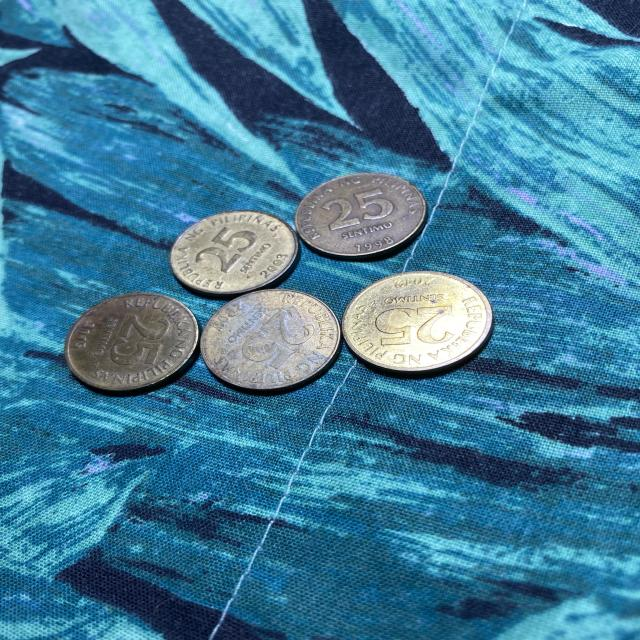25Cent_Old_Front: (235, 312, 313, 368), (378, 306, 457, 348), (112, 312, 170, 368), (324, 190, 391, 227), (199, 225, 250, 273)
